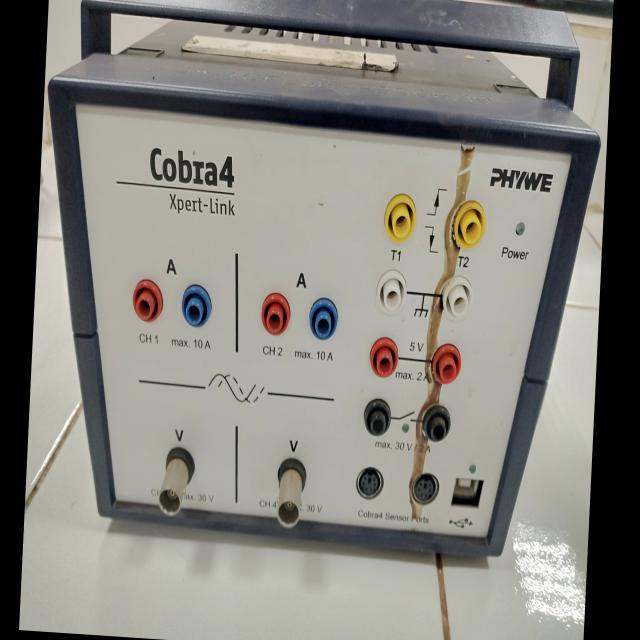Cobra 4 Xpert link Power Supply: (25, 0, 604, 578)
